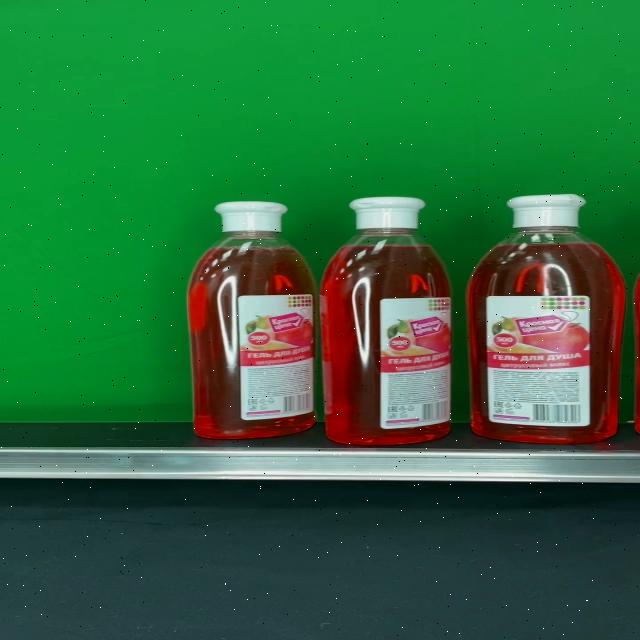Bottle: (466, 194, 627, 443), (318, 197, 452, 445), (188, 202, 315, 438)
Cap: (506, 194, 586, 228), (348, 197, 426, 229), (214, 202, 288, 233)
